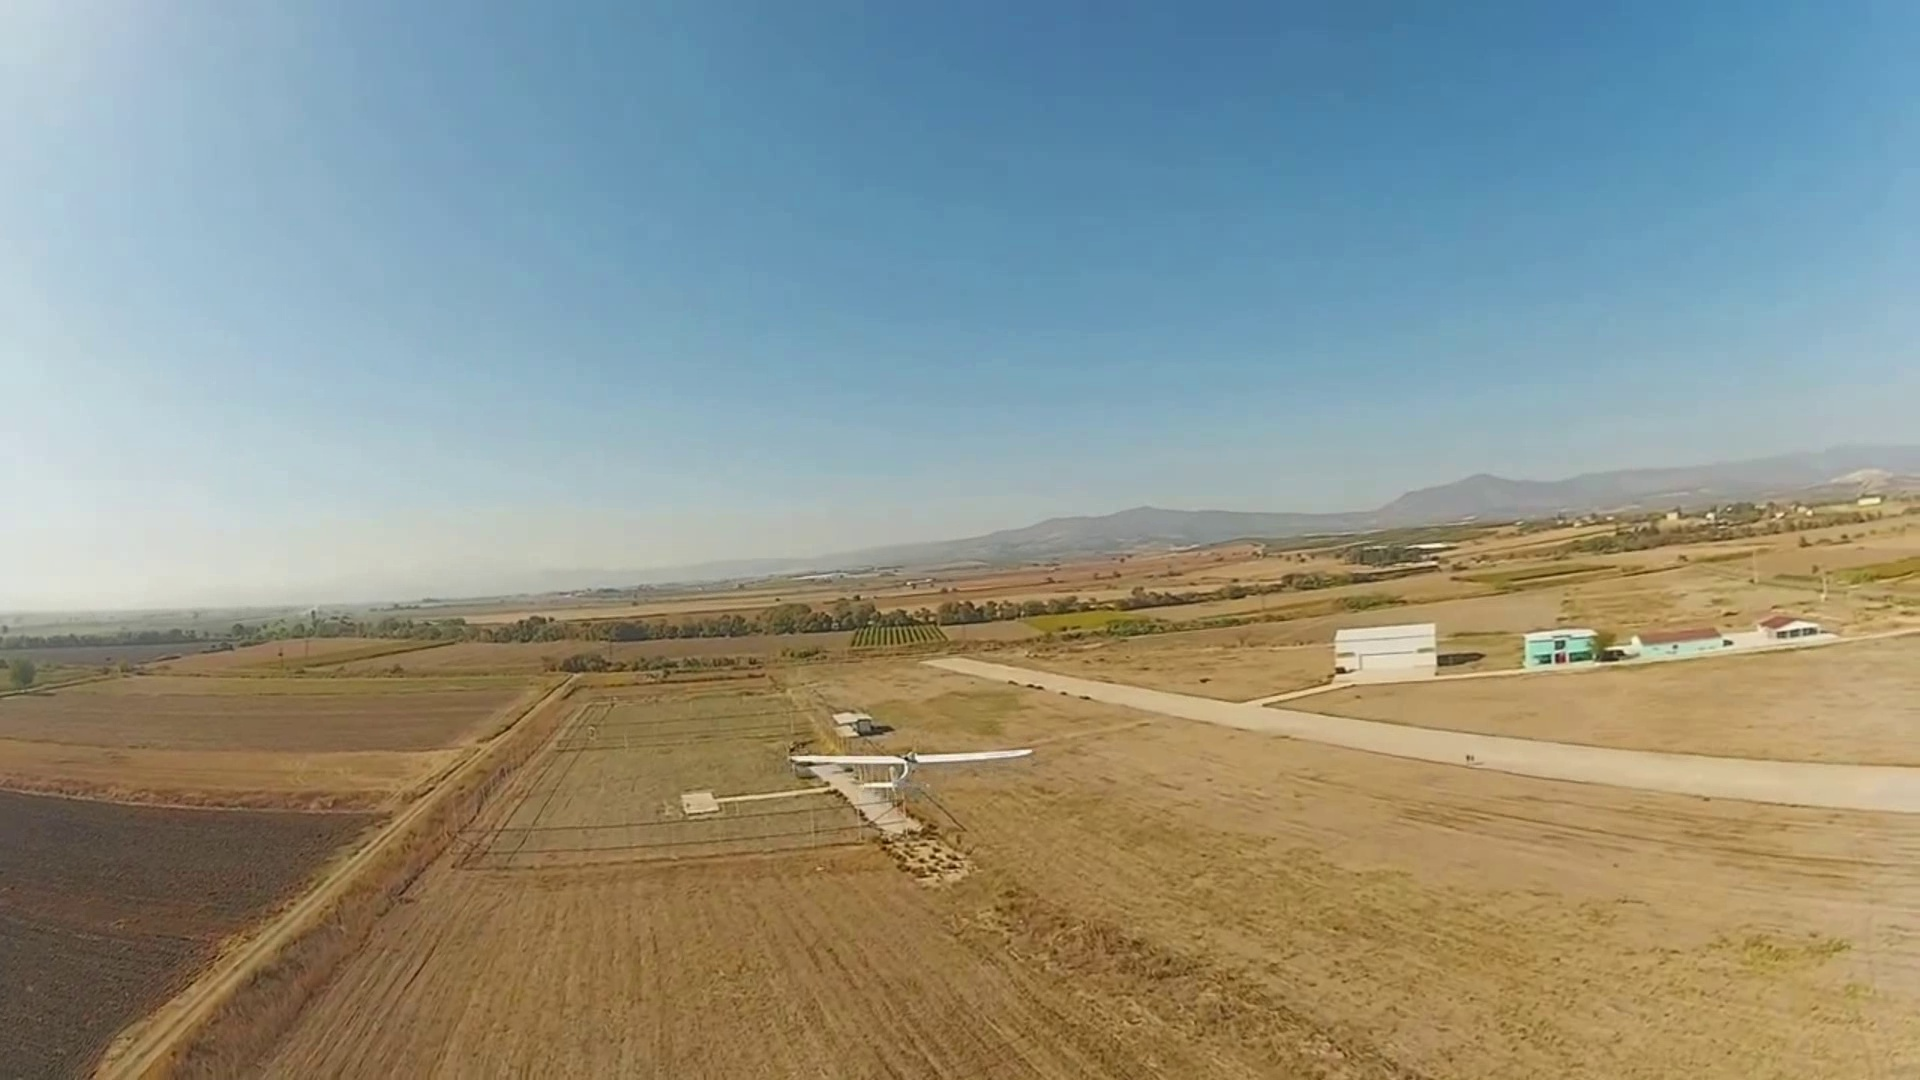airplane: (789, 709, 1036, 877)
